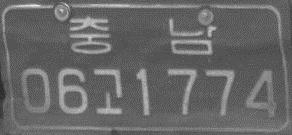0: (19, 67, 51, 114)
1: (129, 68, 158, 116)
4: (245, 68, 277, 118)
6: (56, 67, 88, 114)
7: (166, 67, 196, 114), (205, 68, 235, 115)
고: (93, 66, 124, 116)
충남_D: (68, 15, 216, 55)
